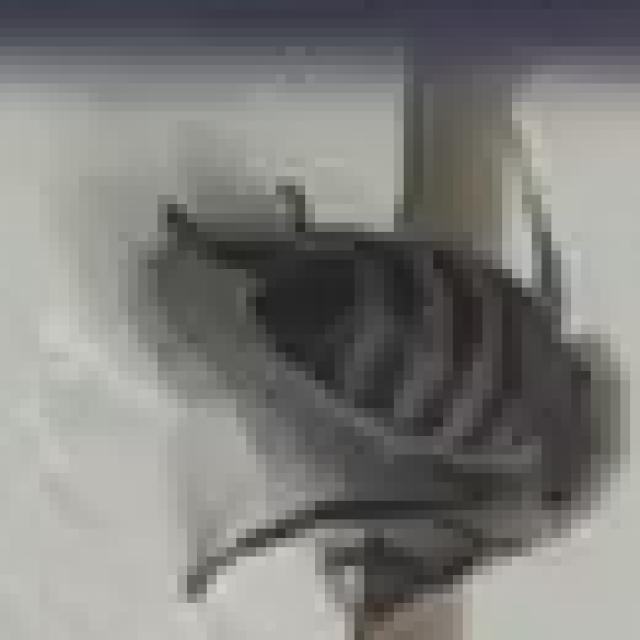honeybee: (144, 174, 585, 577)
